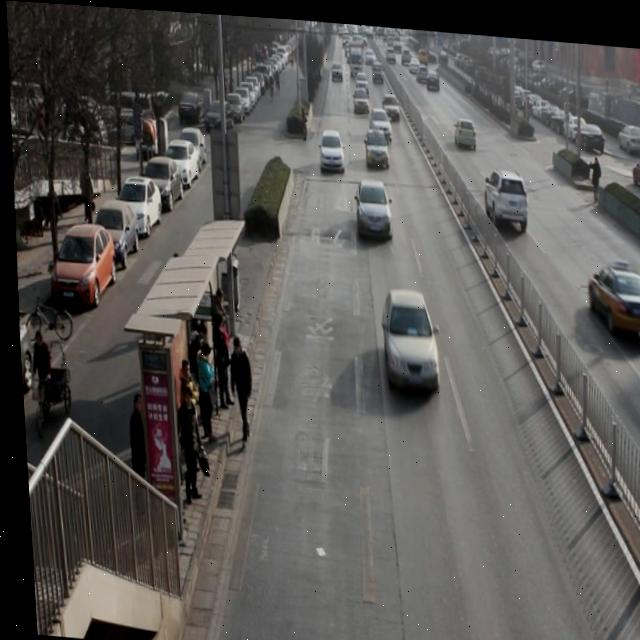car: (372, 280, 440, 390), (580, 247, 640, 335), (479, 157, 530, 233), (353, 173, 393, 236), (315, 124, 345, 169), (360, 122, 389, 164), (449, 109, 479, 145), (377, 84, 401, 118), (366, 104, 392, 134), (349, 81, 370, 109)
